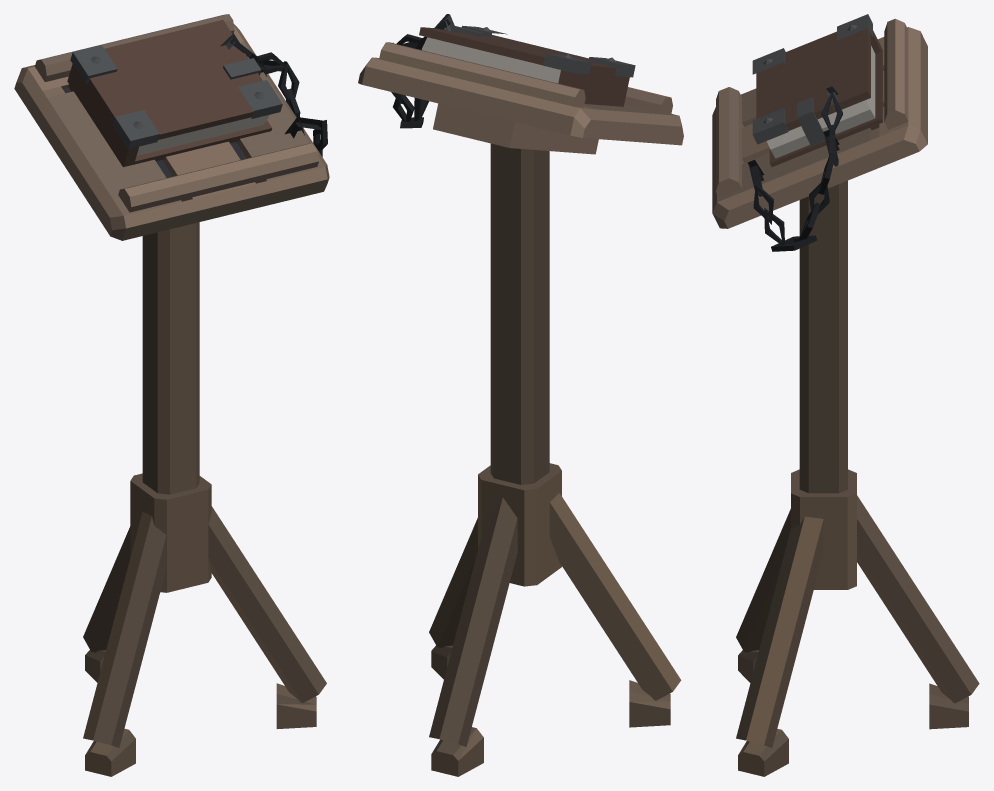
File: chained-book-lectern-381597.glb
The picture shows the model from 3 angles, left to right: view 1: azimuth 30°, elevation 25°; view 2: azimuth 150°, elevation 25°; view 3: azimuth 270°, elevation 25°; orthographic projection. The views are drawn at different scales.
Parts seen in each view (by area): view 1: lectern, tome; view 2: lectern, tome; view 3: lectern, tome.
Part boxes in pixels (x1,y1,x2,y2): lectern: (14,14,329,776); tome: (67,20,285,167); lectern: (358,42,683,776); tome: (396,14,635,106); lectern: (712,18,979,776); tome: (752,14,884,166).
Size of the model in its own units: 0.4993 by 1.3 by 0.4692.
